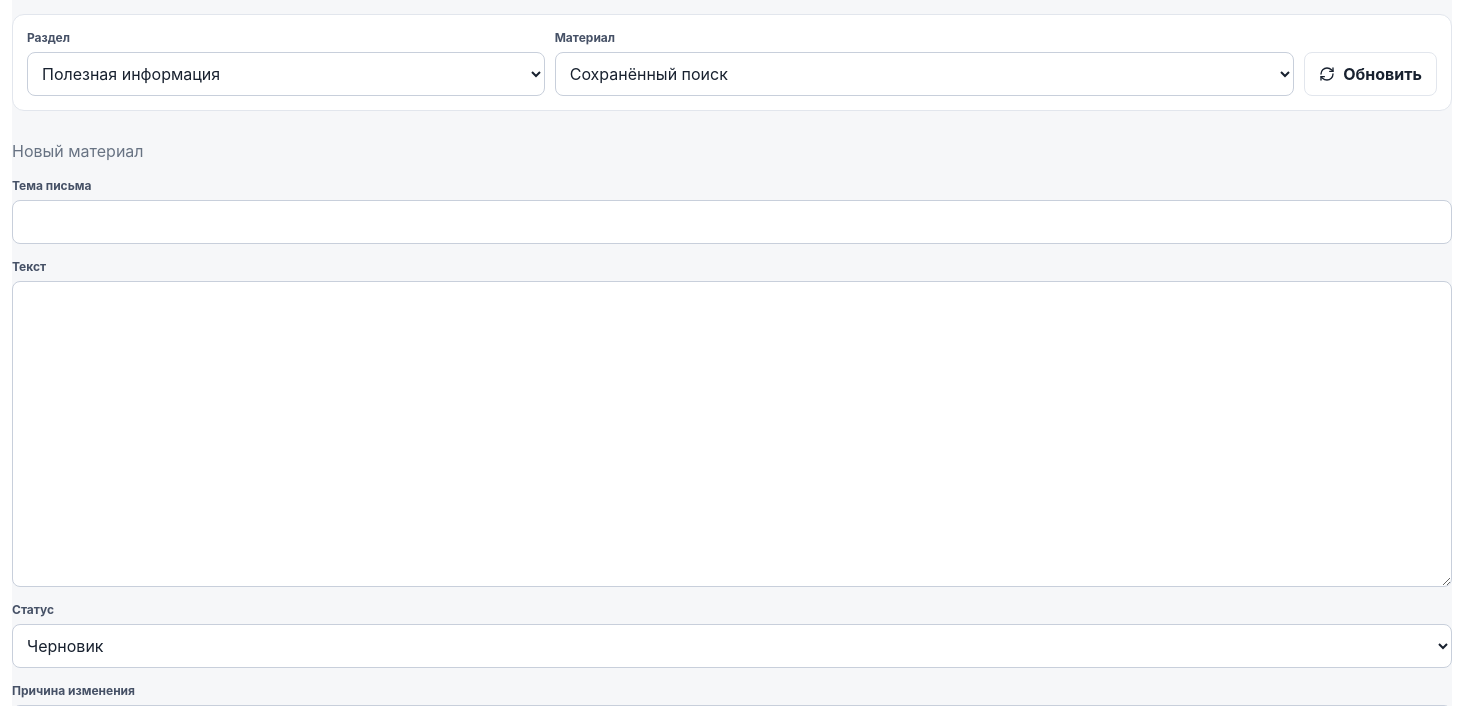
Test: keeps an existing article slug stable while allowing its content to be edited
Select "Полезная информация" in the dropdown labelled "Раздел": coordinates (286, 74) top-left (27, 52), bottom-right (545, 96)
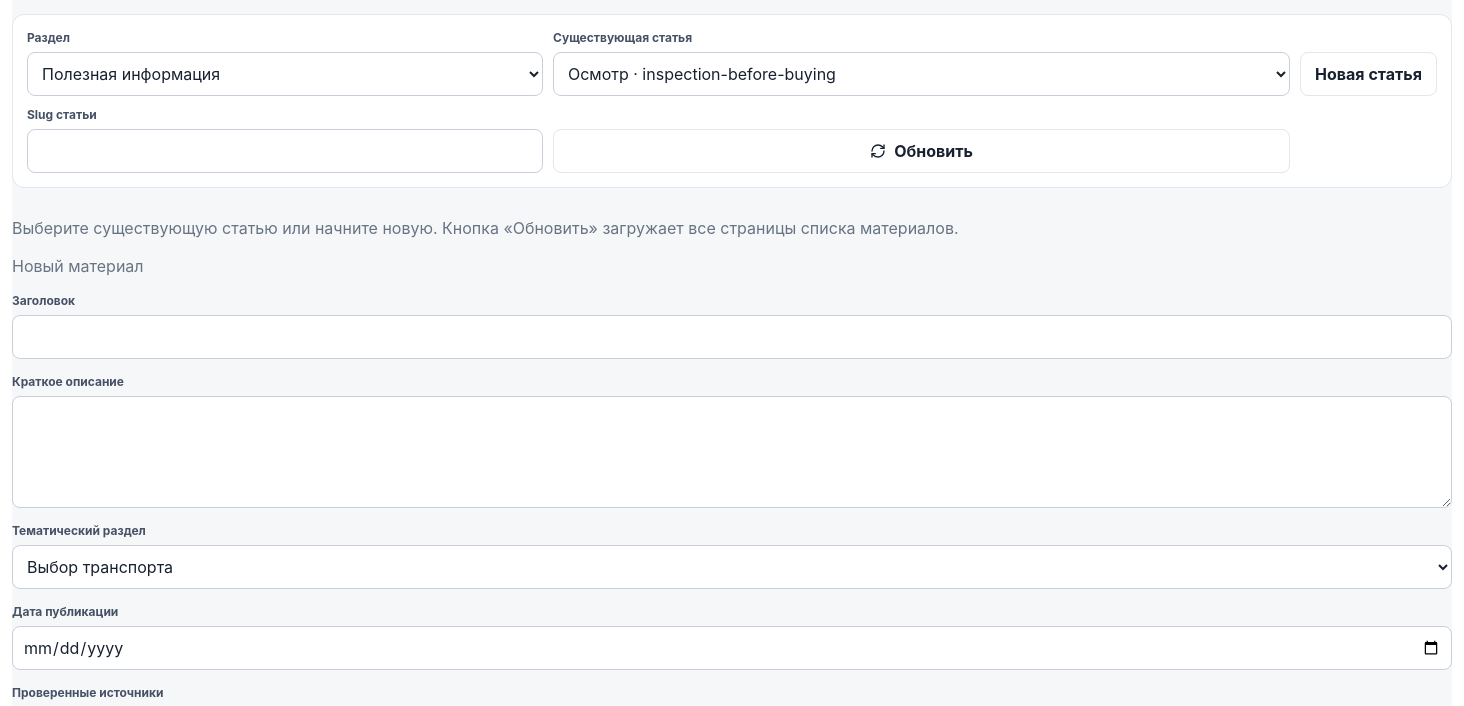
Select "Осмотр · inspection-before-buying" in the dropdown named "existing_article": coordinates (922, 74) top-left (553, 52), bottom-right (1290, 96)
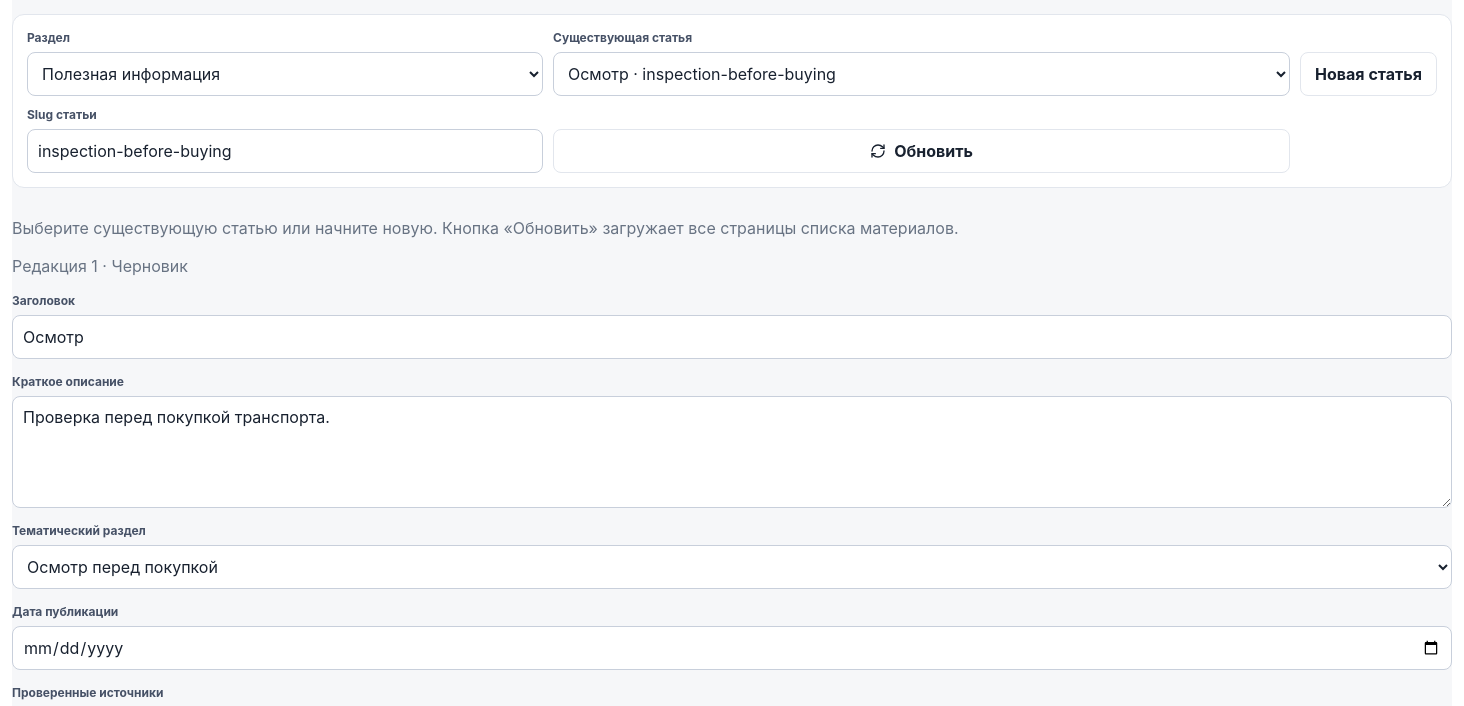
Expected: the field named "title" is enabled, top-left (12, 315), bottom-right (1452, 359)
Expected: the field named "content_key" is disabled, top-left (27, 129), bottom-right (543, 173)
